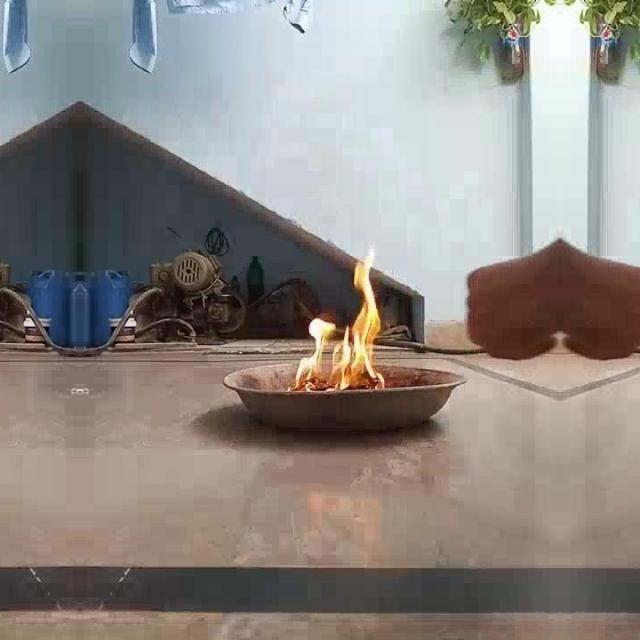smoke: (288, 246, 384, 390)
